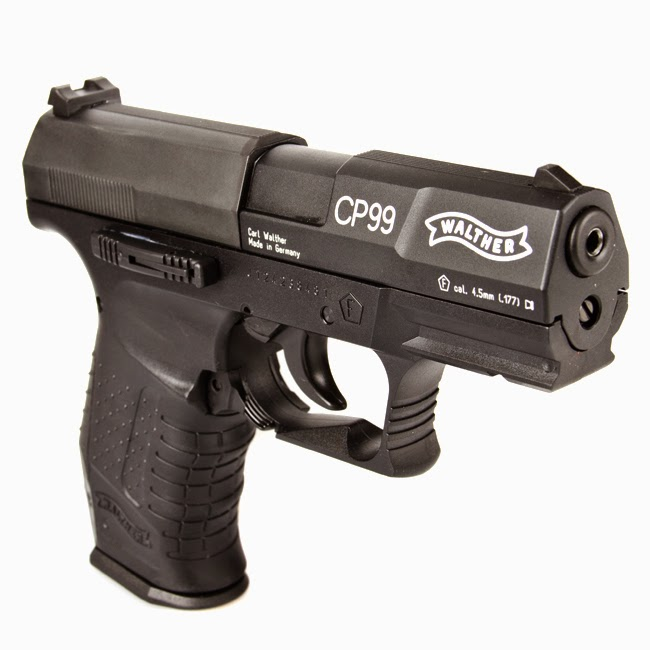gun: (13, 69, 637, 636)
